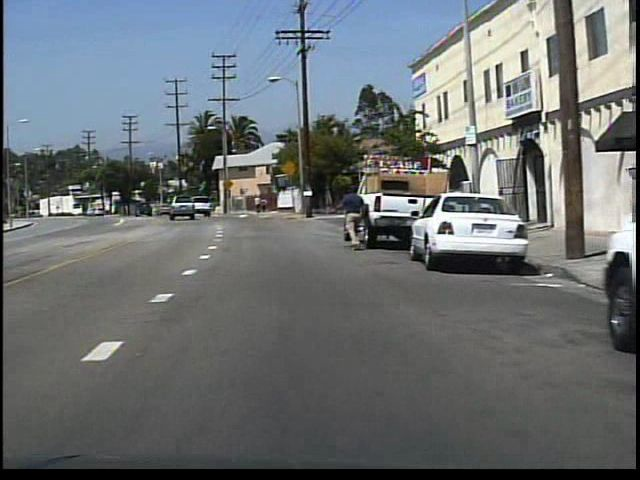person: (336, 183, 367, 253), (259, 197, 270, 216), (253, 194, 262, 216)
